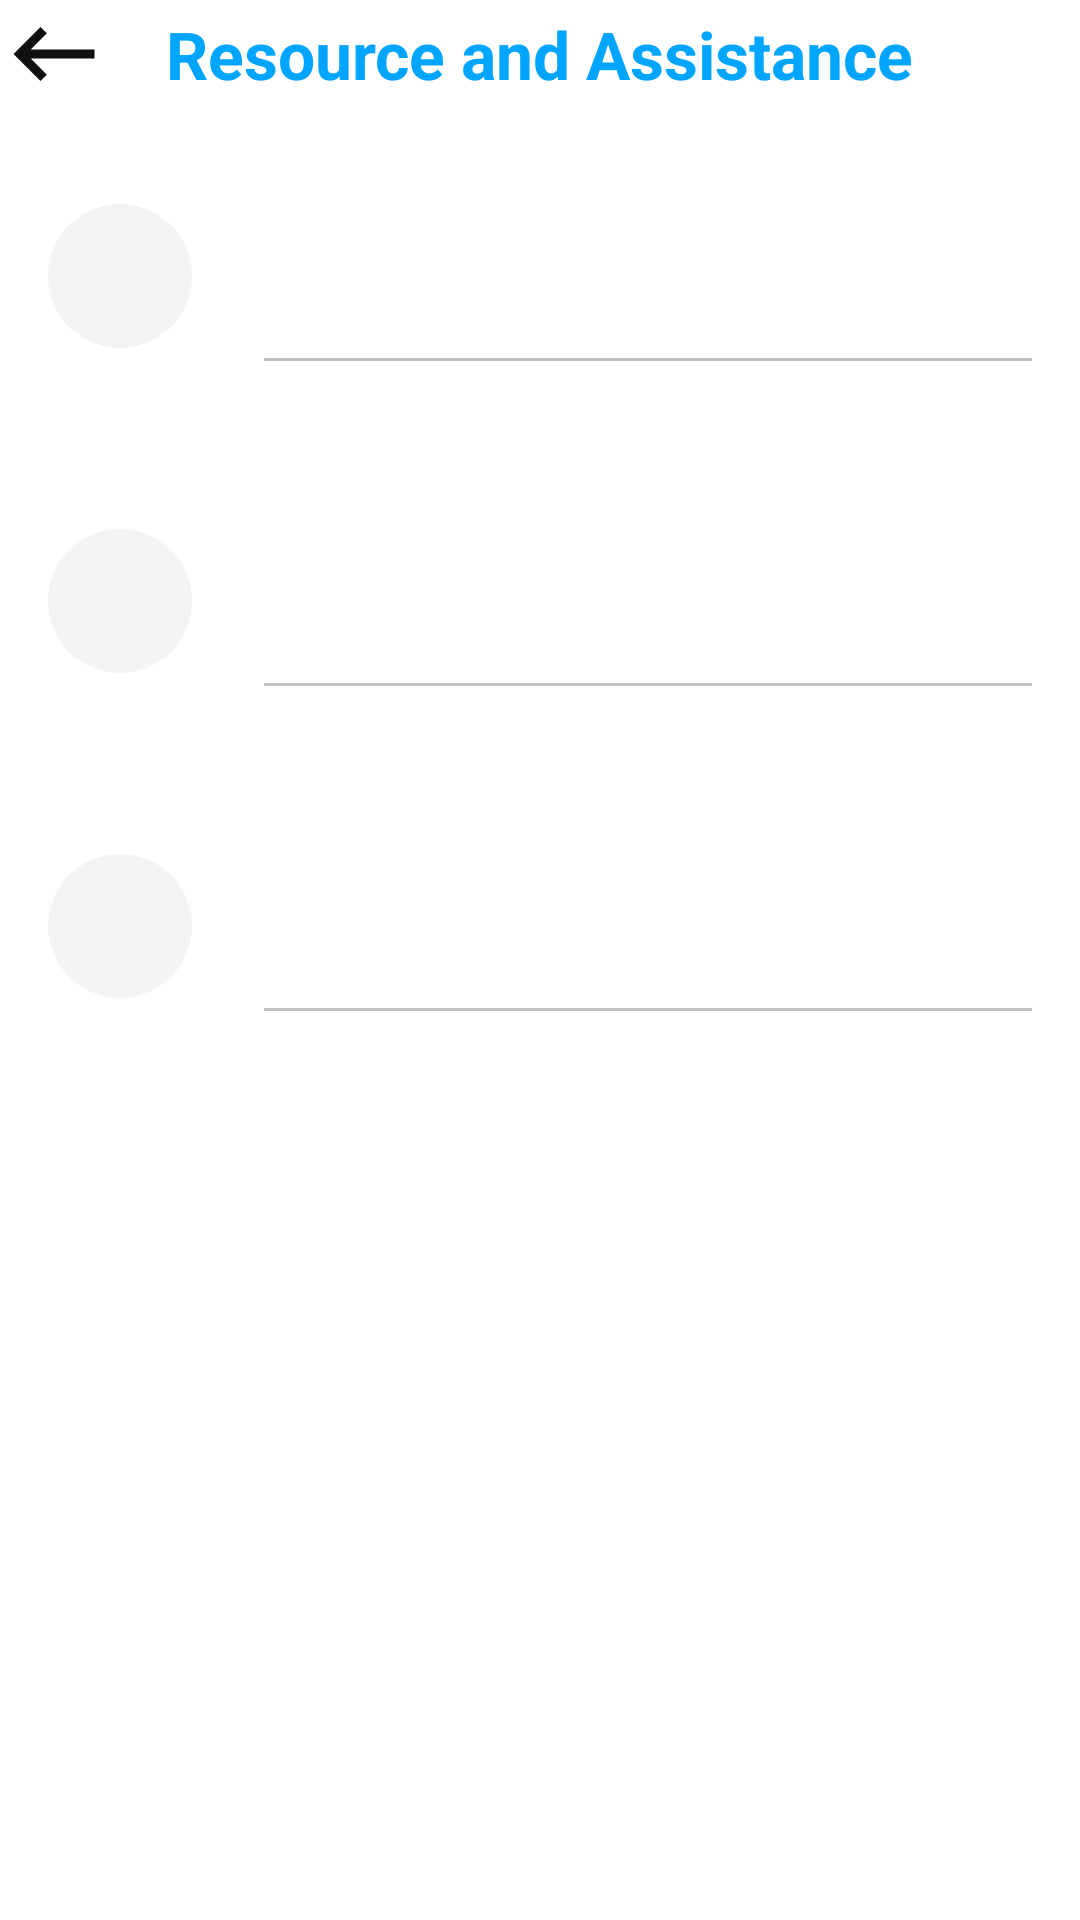

Where icons sit on this 1080w x 1920h app screen, as (x1, y1, x2, y2):
back: (13, 27, 95, 81)
